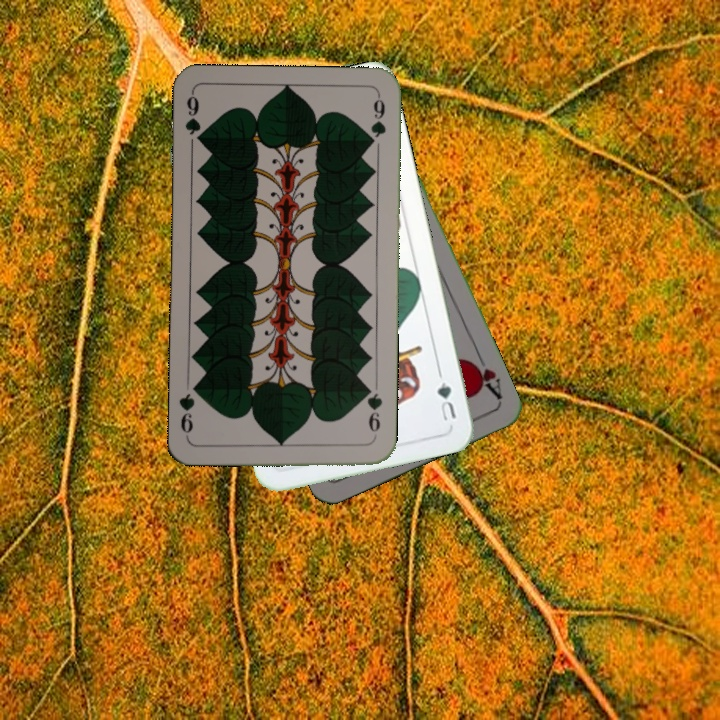G9: (182, 90, 207, 149), (362, 382, 385, 434)
GU: (433, 377, 459, 424)
HA: (464, 349, 506, 403)
